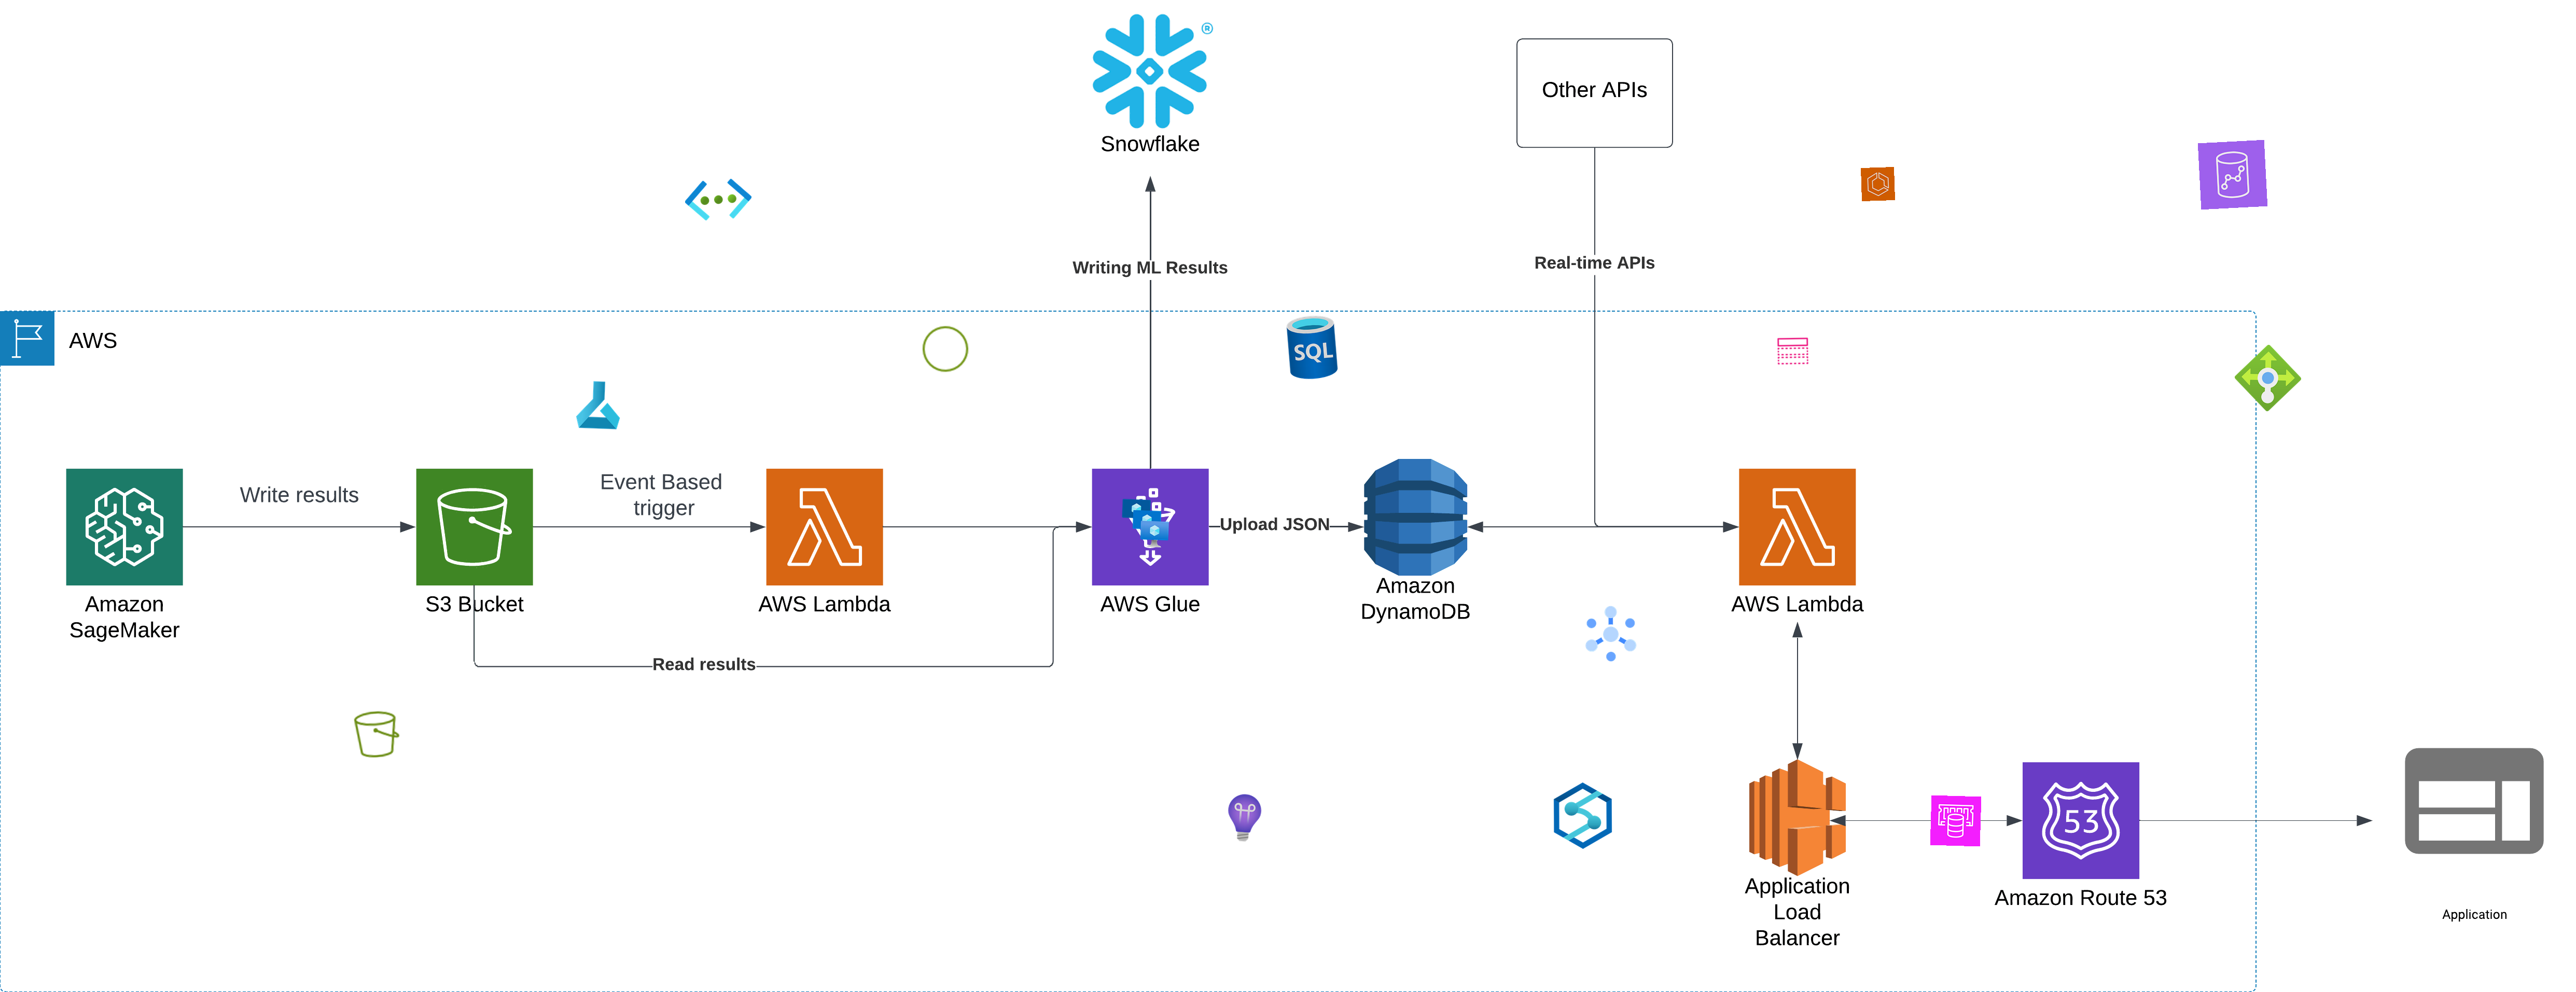aws_amazon_elastic_container_service: (1860, 166, 1896, 202)
aws_amazon_elasticache: (1930, 795, 1981, 847)
aws_amazon_redshift: (2198, 140, 2267, 210)
aws_simple_notification_service_topic: (1776, 333, 1810, 368)
aws_simple_storage_service_bucket: (350, 708, 404, 760)
aws_simple_storage_service_object: (920, 324, 971, 374)
azure_application_insights: (1217, 790, 1272, 844)
azure_load_balancers: (2234, 343, 2302, 412)
azure_machine_learning: (573, 379, 624, 430)
azure_sql_database: (1277, 312, 1347, 383)
azure_synapse_analytics: (1549, 782, 1617, 849)
azure_virtual_networks: (682, 164, 754, 235)
azure_vm_scale_sets: (1119, 496, 1170, 549)
gcp_pubsub: (1577, 599, 1644, 667)
